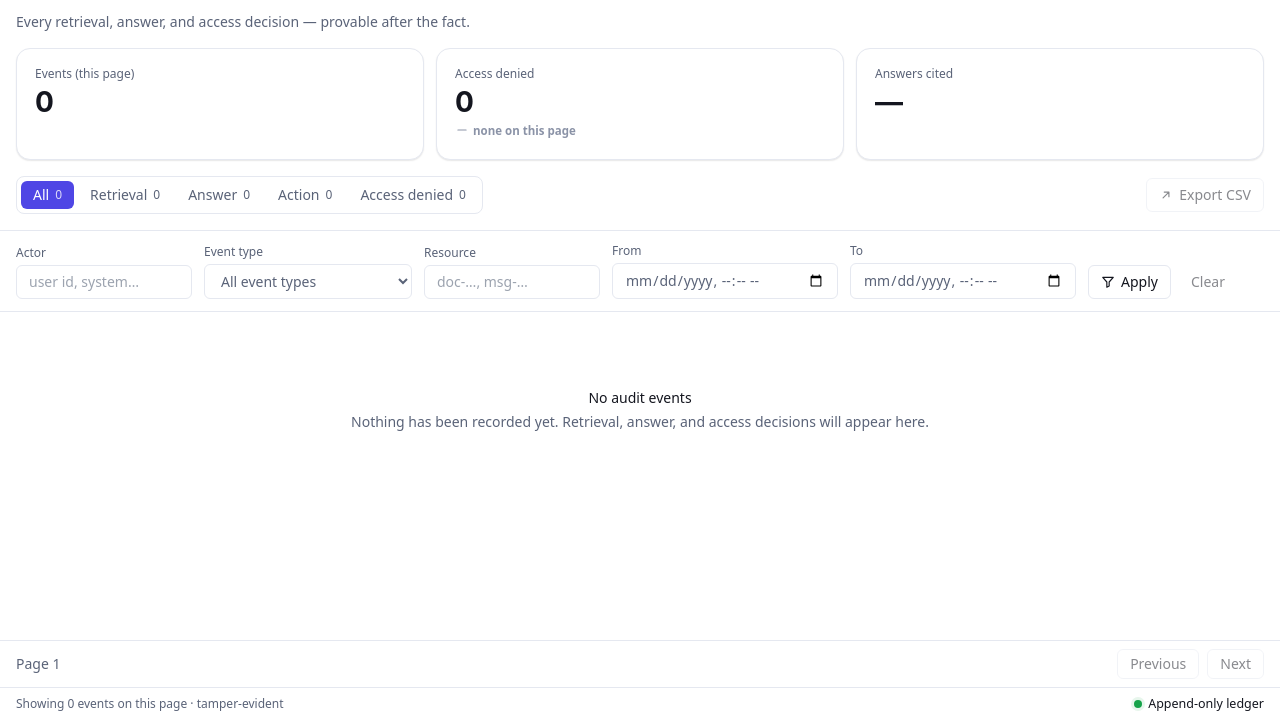
Test: AuditPanel › shows the filtered-empty copy after applying a filter that matches nothing
Expected: the text "Nothing has been recorded yet" is shown, [351,412,929,431]
Type "ghost@acme" into the field labelled "Actor" at (104, 282), box [16,265,192,299]
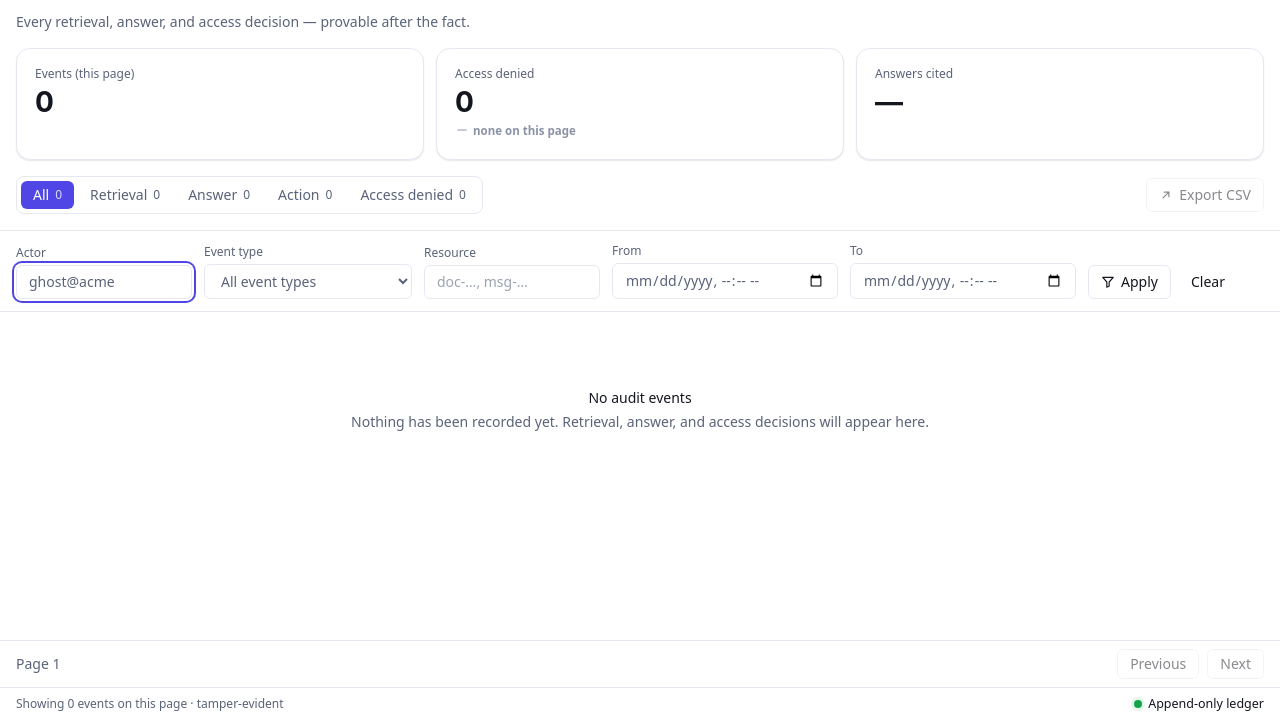
Click the button "Apply" at (1129, 282), box [1088,265,1171,299]
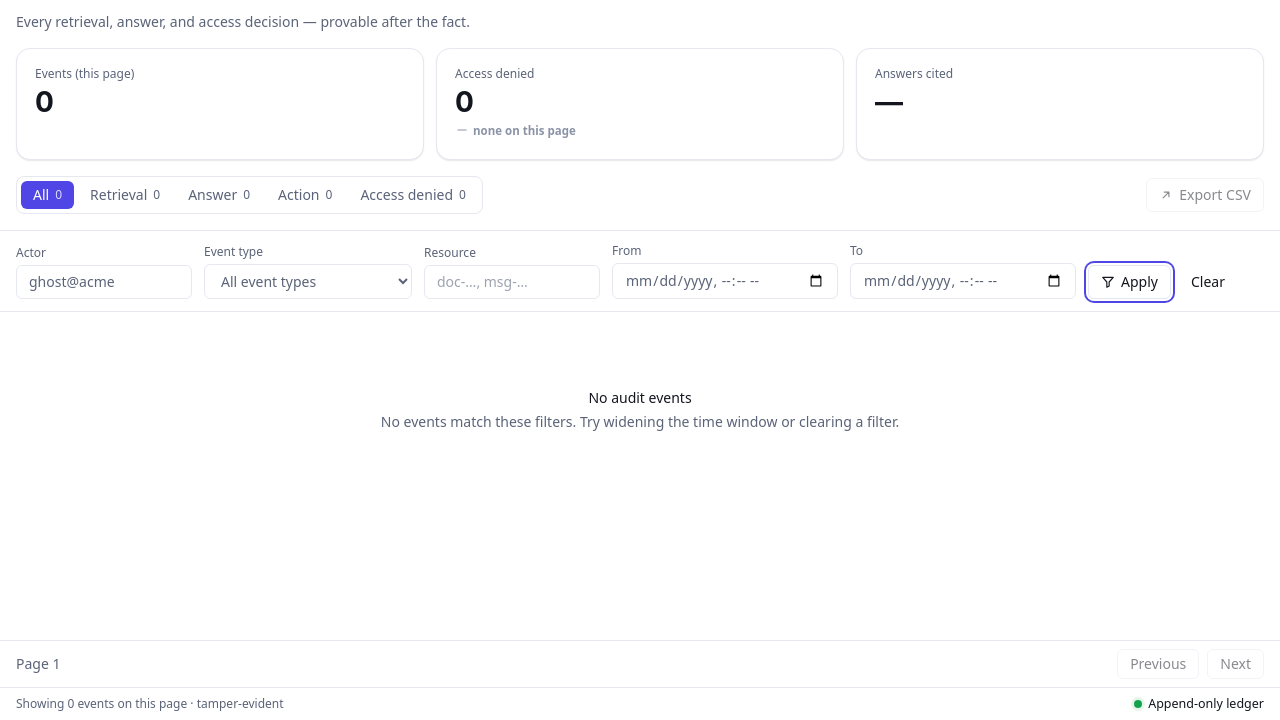
Expected: the text "No events match these filters" is shown, [381,412,899,431]
